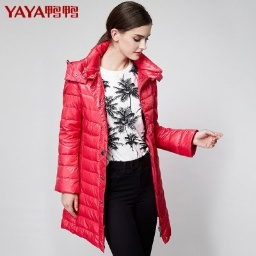face: (97, 1, 157, 65)
